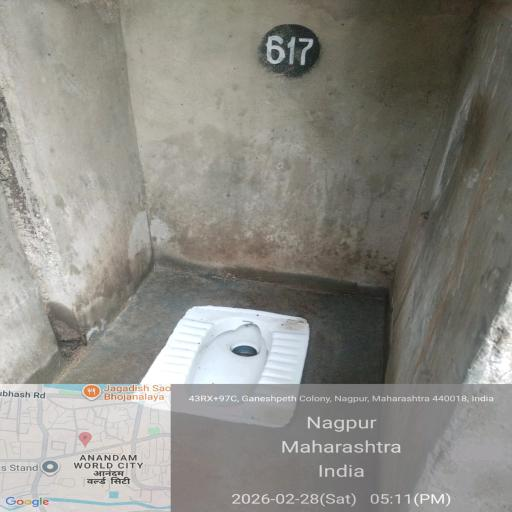clean_indian: (141, 306, 333, 428)
partial_dirty_floor: (38, 28, 512, 263), (91, 273, 506, 512)
